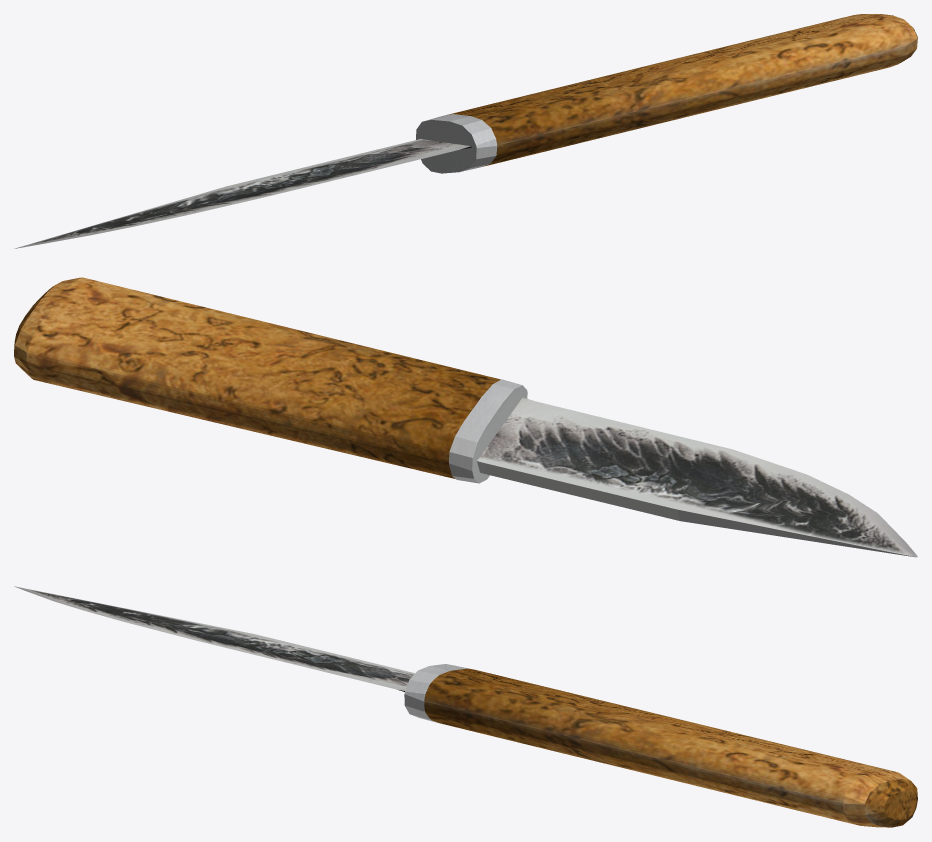
Rendered from knife.obj.
3 views of the same model, one above another, from view 1: azimuth 30°, elevation 25°; view 2: azimuth 150°, elevation 25°; view 3: azimuth 330°, elevation 25° (orthographic). The views are drawn at different scales.
Visible parts, largest first — view 1: Cube.001, Cube; view 2: Cube.001, Cube; view 3: Cube.001, Cube.
Boxes of the visible parts, bbox=[...] form: Cube.001: bbox=[447, 14, 917, 166]; Cube: bbox=[14, 114, 497, 248]; Cube.001: bbox=[14, 277, 500, 478]; Cube: bbox=[449, 379, 917, 557]; Cube.001: bbox=[424, 668, 917, 827]; Cube: bbox=[14, 586, 473, 722].
Size of the model in its own units: 4.29 by 0.3218 by 0.5173.
Materials: 2 (2 with a texture image).
